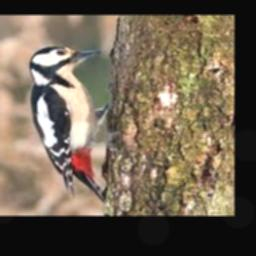Woodpecker: (30, 46, 126, 201)
